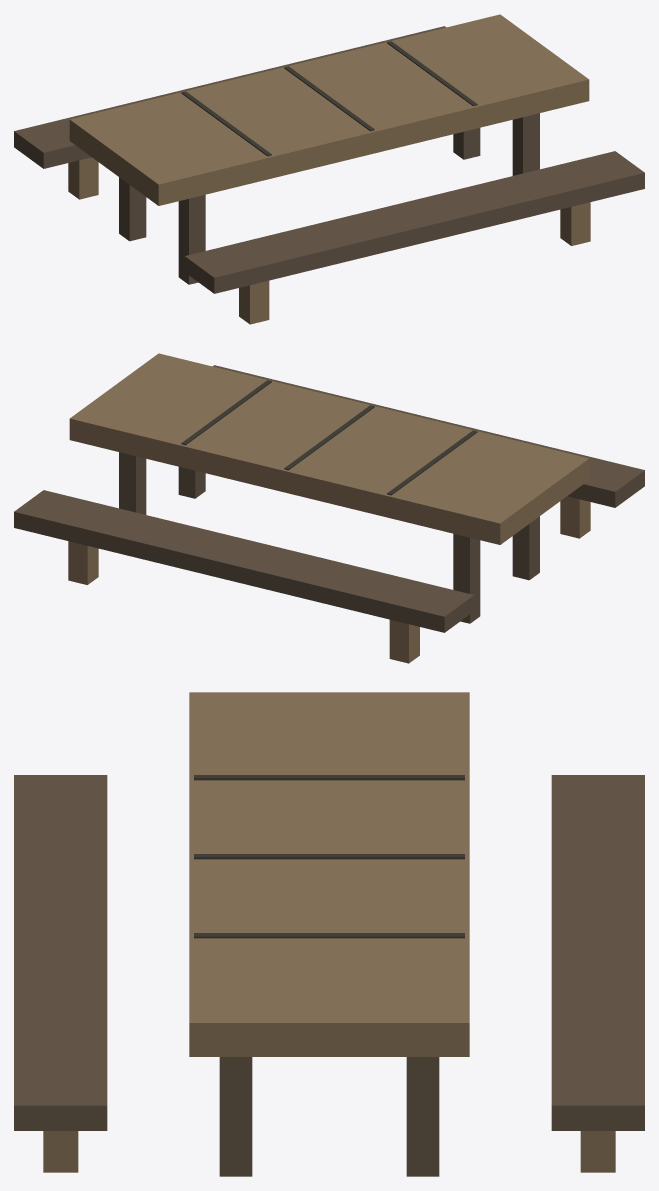
Rendered from S2_MessTable.fbx.
3 renders of one model, top to bottom at view 1: azimuth 30°, elevation 25°; view 2: azimuth 150°, elevation 25°; view 3: azimuth 270°, elevation 25°, orthographic. The views are drawn at different scales.
Parts seen in each view (by area): view 1: S2_MessTable; view 2: S2_MessTable; view 3: S2_MessTable.
Boxes of the visible parts, x1,y1,x2,y2 form: S2_MessTable: (14,14,644,324); S2_MessTable: (14,353,644,663); S2_MessTable: (14,692,644,1176).
Size of the model in its own units: 3.35 by 0.879 by 2.7.
